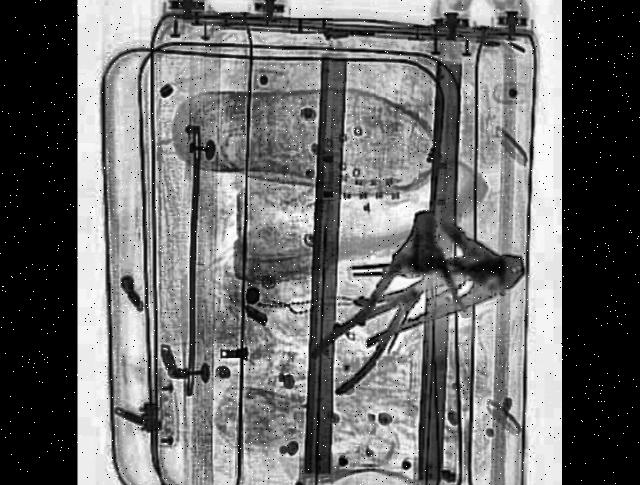Pliers: (306, 254, 435, 406), (418, 240, 526, 322)
